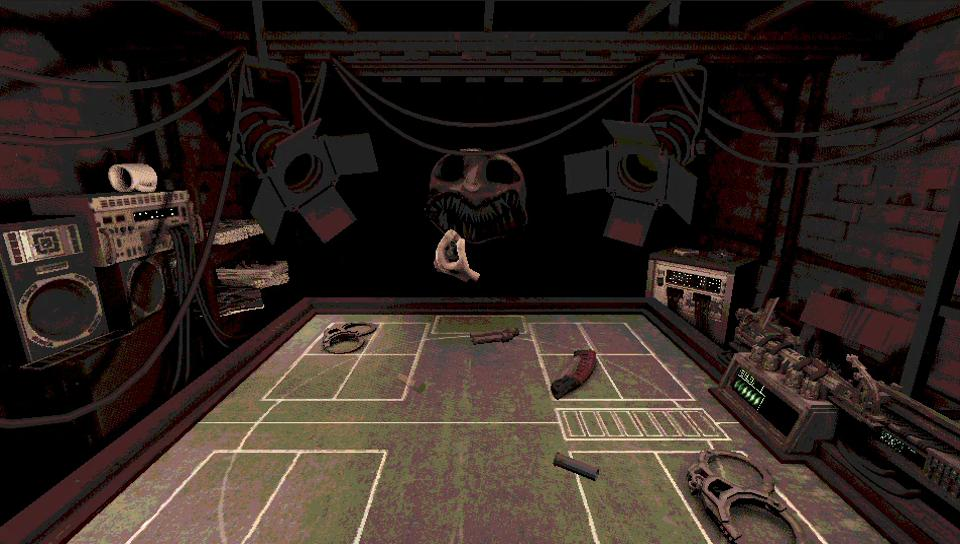ally: (52, 413, 905, 543)
doubledamage: (549, 348, 598, 399)
emptyspace: (128, 447, 300, 543), (565, 445, 713, 543), (243, 448, 383, 543), (263, 353, 358, 399), (602, 353, 689, 399), (337, 354, 416, 399), (584, 323, 653, 354), (364, 323, 428, 355), (534, 323, 588, 353)
enemyspace: (210, 307, 727, 409)
handcuff: (685, 450, 802, 543), (321, 322, 376, 353)
